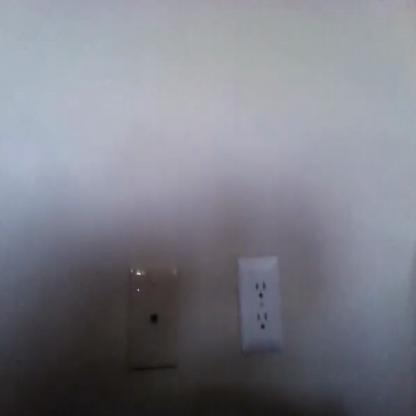OUTLET: (238, 258, 282, 348)
